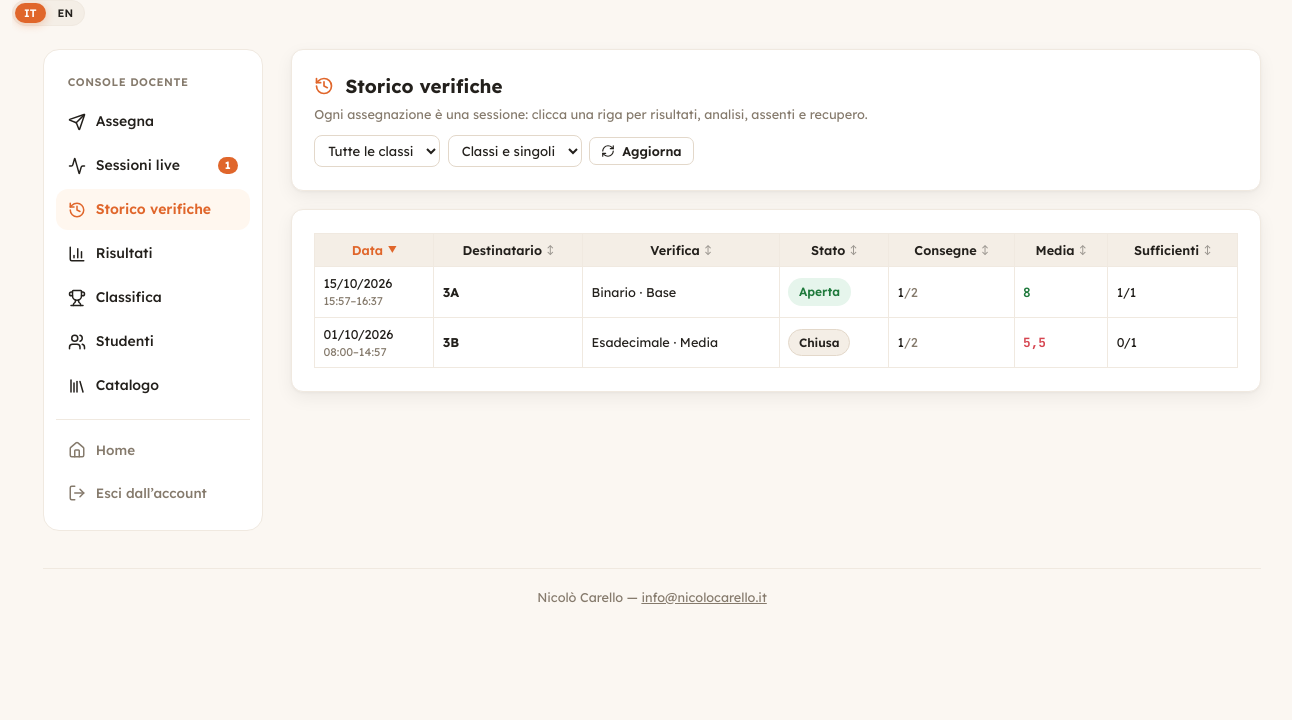
Test case: console docente — Storico › apre la sessione con statistiche, assenti e analisi
Click the button with aria-label "Sessione di 3B".
click(776, 343)  # box [315,317,1237,368]
(page scrolled)
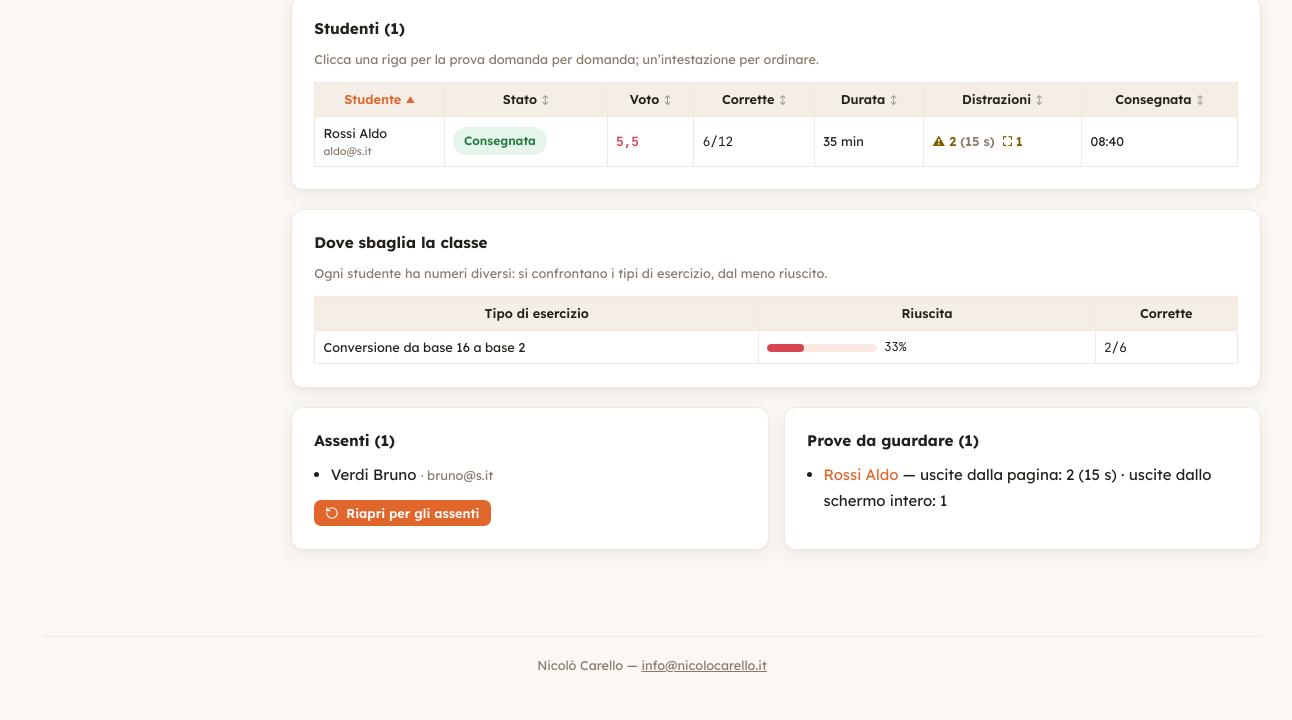
Result: the list item "Verdi Bruno · bruno@s.it" is shown at [331,465,493,484]
Result: the text "Conversione da base 16 a base 2" is shown at [315,330,759,364]
Result: the list item "uscite dalla pagina: 2" is shown at [824,465,1211,510]
